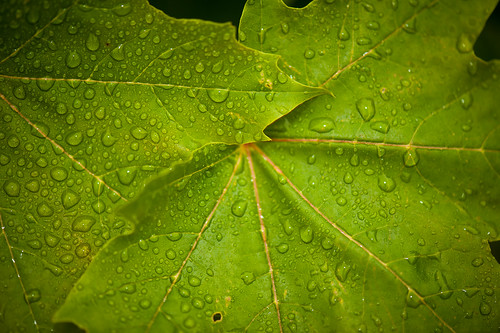vegetation: (18, 1, 500, 333)
